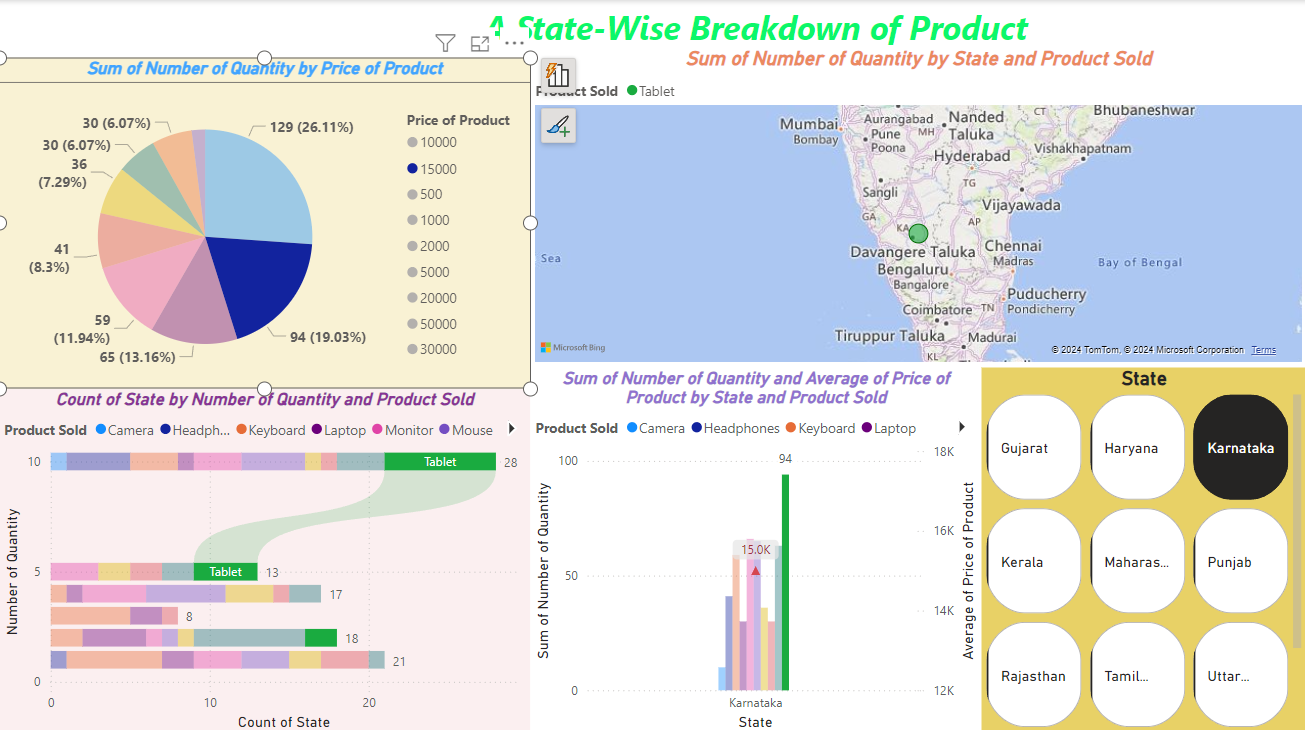

This screenshot's page, from the dashboard's own definition file:
{"tool":"powerbi","page":{"name":"Page 1","canvas":[1280,720],"ordinal":0},"visuals":[{"type":"textbox","box":[460.1,0,560.7,55.9],"z":0},{"type":"barChart","fields":{"Y":["CountNonNull(State sales Prediction.State)"],"Category":["State sales Prediction.Number of Quantity"],"Series":["State sales Prediction.Product Sold"]},"box":[0,380,519.7,339],"z":1000},{"type":"pieChart","fields":{"Category":["State sales Prediction.Price of Product"],"Y":["Sum(State sales Prediction.Number of Quantity)"]},"box":[0,55.9,519.7,324.1],"z":2000},{"type":"lineClusteredColumnComboChart","fields":{"Category":["State sales Prediction.State"],"Y2":["Avg(State sales Prediction.Price of Product)"],"Series":["State sales Prediction.Product Sold"],"Y":["Sum(State sales Prediction.Number of Quantity)"]},"box":[519.7,359.5,441.5,359.5],"z":3000},{"type":"map","fields":{"Category":["State sales Prediction.State"],"Size":["Sum(State sales Prediction.Number of Quantity)"],"Series":["State sales Prediction.Product Sold"]},"box":[519.7,46.6,760,312.9],"z":4000},{"type":"advancedSlicerVisual","fields":{"Values":["State sales Prediction.State"]},"box":[961.1,359.5,318.5,359.5],"z":5000}]}

Visuals, with their boxes on the page's 1280x720 design canvas (x1, y1, x2, y2). These are canvas units, not pixel positions in the 1305x730 screenshot, which may show the page scaled, cropped or inside an application window:
textbox: rect(460, 0, 1021, 56)
barChart - CountNonNull(State sales Prediction.State) x State sales Prediction.Number of Quantity: rect(0, 380, 520, 719)
pieChart - State sales Prediction.Price of Product x Sum(State sales Prediction.Number of Quantity): rect(0, 56, 520, 380)
lineClusteredColumnComboChart - State sales Prediction.State x Avg(State sales Prediction.Price of Product): rect(520, 360, 961, 719)
map - State sales Prediction.State x Sum(State sales Prediction.Number of Quantity): rect(520, 47, 1280, 360)
advancedSlicerVisual - State sales Prediction.State: rect(961, 360, 1280, 719)
